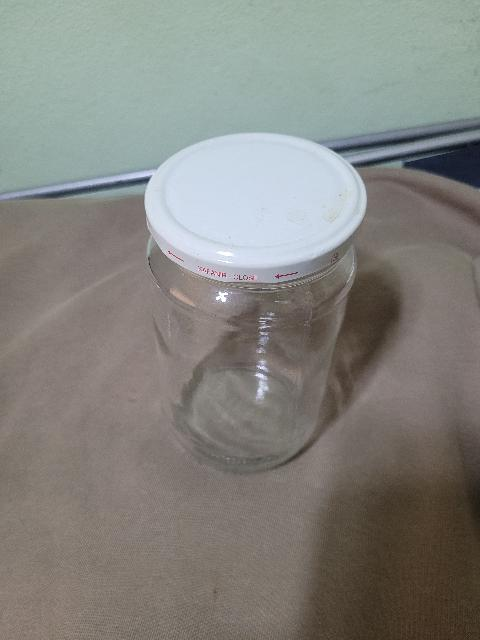Cam: (120, 240, 373, 487)
Plastik: (136, 133, 370, 284)
